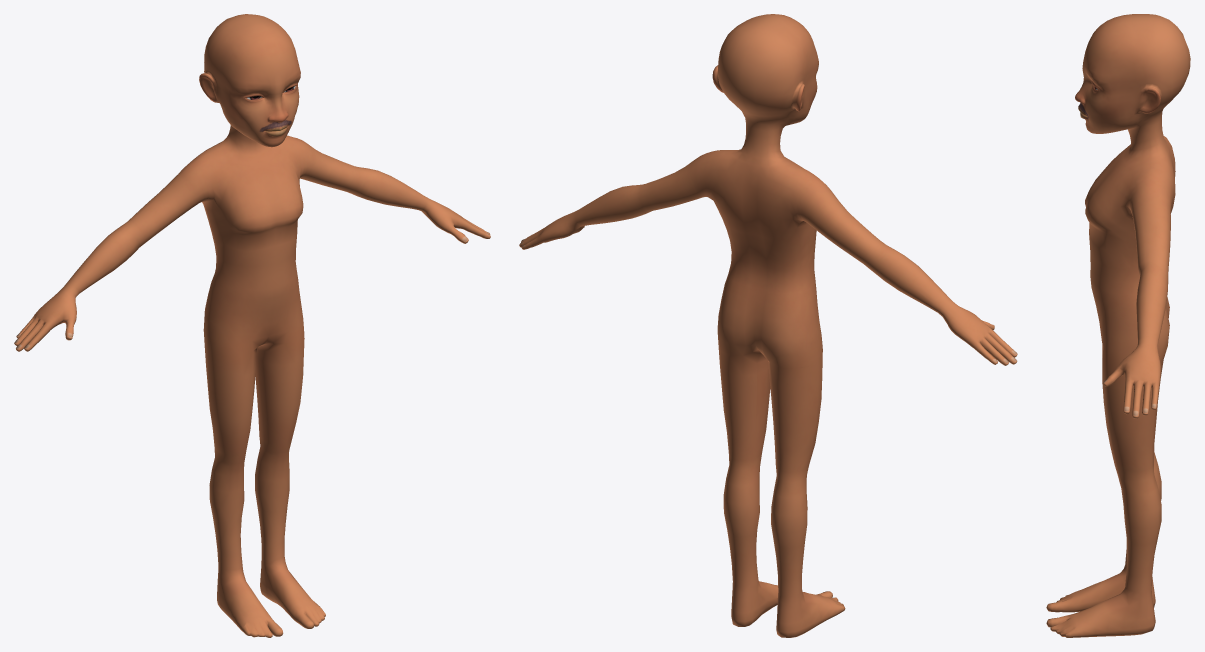
File: frame_0068.glb
The picture shows the model from 3 angles, left to right: view 1: azimuth 30°, elevation 25°; view 2: azimuth 150°, elevation 25°; view 3: azimuth 270°, elevation 25°; orthographic projection. The views are drawn at different scales.
Parts seen in each view (by area): view 1: frame_0068_head_geo; view 2: frame_0068_head_geo; view 3: frame_0068_head_geo.
Boxes of the visible parts, bbox=[...] form: frame_0068_head_geo: bbox=[14, 14, 490, 637]; frame_0068_head_geo: bbox=[519, 14, 1017, 637]; frame_0068_head_geo: bbox=[1046, 14, 1190, 637].
Size of the model in its own units: 1.28 by 1.5 by 0.3253.
3 materials, 3 textured.
